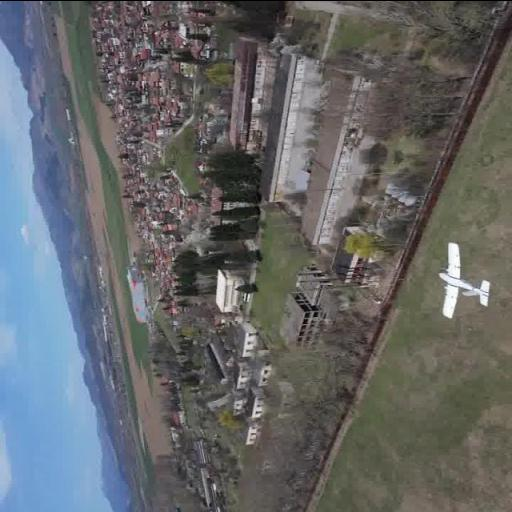uav: (434, 238, 496, 322)
